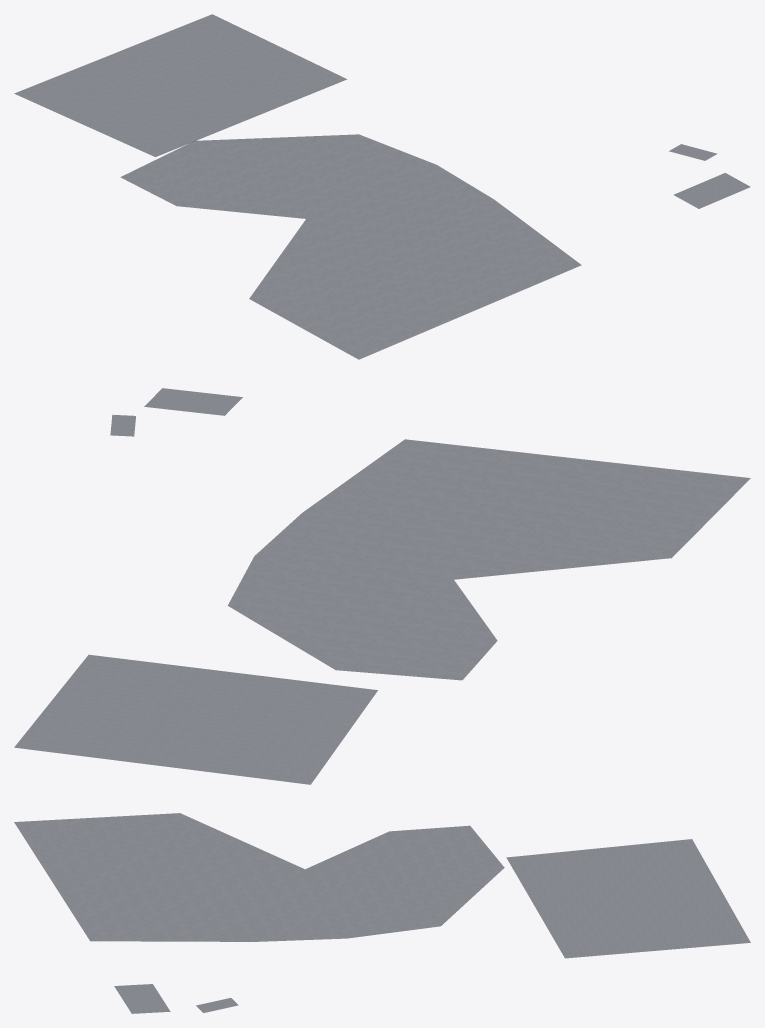
File: water_visual.glb
The picture shows the model from 3 angles, top to bottom: view 1: azimuth 30°, elevation 25°; view 2: azimuth 150°, elevation 25°; view 3: azimuth 270°, elevation 25°; orthographic projection. The views are drawn at different scales.
Parts seen in each view (by area): view 1: mine_water_reset.png__; view 2: mine_water_reset.png__; view 3: mine_water_reset.png__.
Part boxes in pixels (x1,y1,x2,y2): mine_water_reset.png__: (14,14,749,359); mine_water_reset.png__: (14,388,750,784); mine_water_reset.png__: (14,813,750,1013).
Size of the model in its own units: 13.92 by 0.7203 by 19.97.
Materials: 1 (1 with a texture image).
